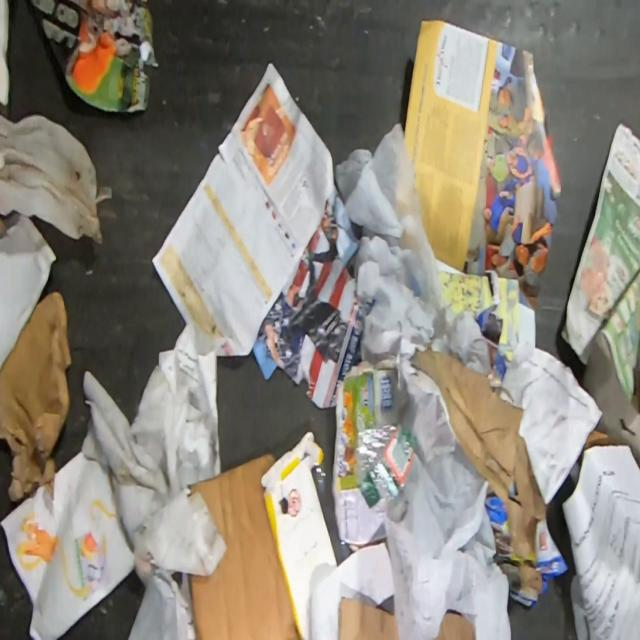cardboard: (188, 452, 301, 640), (261, 432, 338, 640), (331, 369, 399, 545), (484, 496, 569, 611), (338, 595, 400, 639), (437, 611, 476, 639)
rigid_plastic: (356, 423, 417, 513)
soft_plastic: (0, 113, 113, 245)
